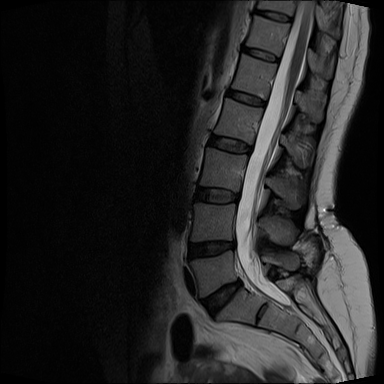Lumbar Disc Bulge (LDB): (182, 234, 241, 266)
Normal IVD: (192, 273, 245, 325), (203, 129, 256, 158), (222, 81, 269, 112), (190, 182, 243, 208), (235, 44, 283, 66), (250, 8, 296, 27)
Spinal Stenosis (SS): (228, 233, 242, 256)
